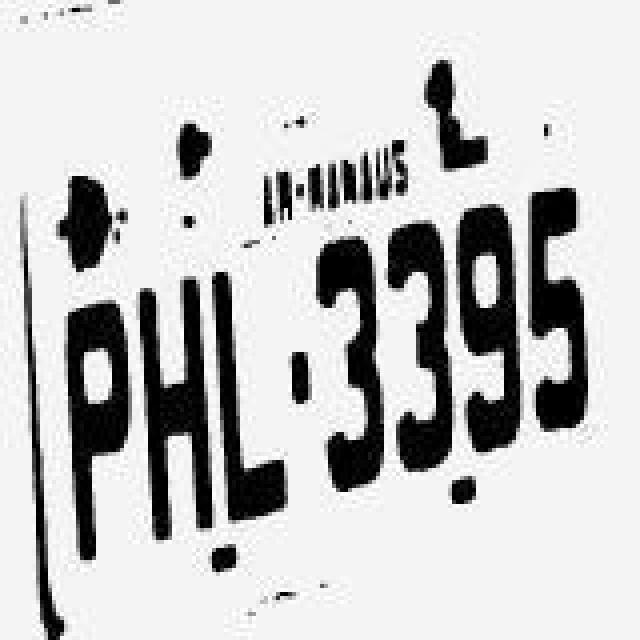3: (308, 230, 380, 530), (380, 220, 460, 484)
5: (522, 180, 614, 460)
9: (454, 204, 530, 468)
H: (136, 274, 216, 558)
L: (216, 270, 288, 530)
P: (56, 300, 136, 580)
